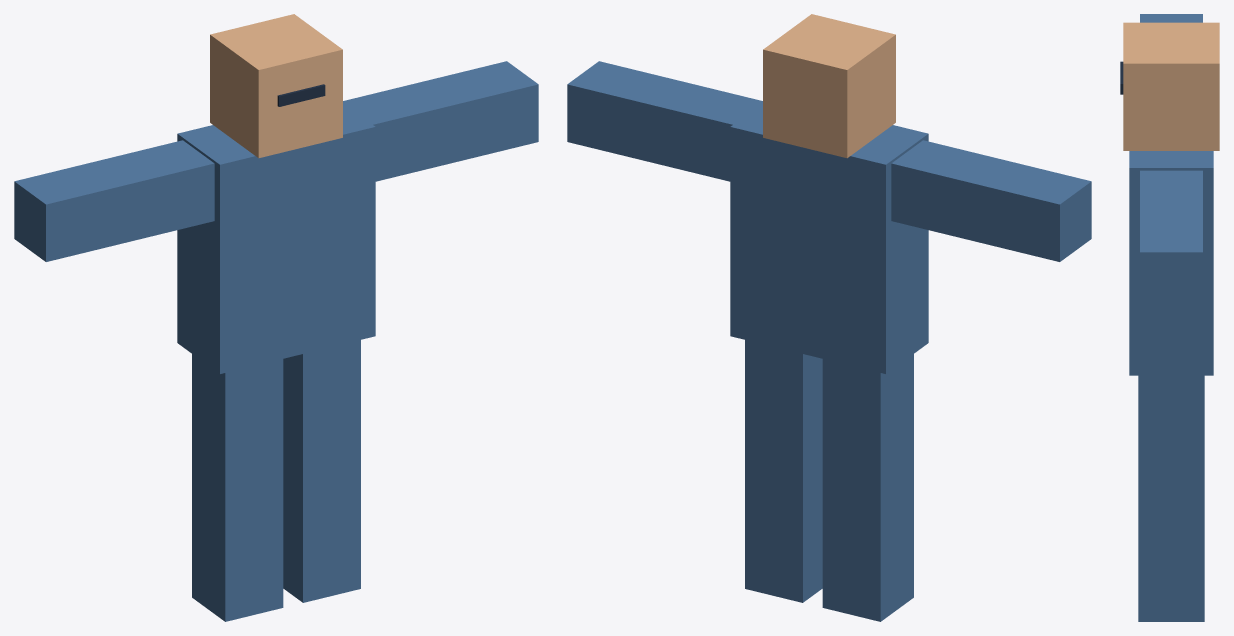
The model's file is humanoid_test.glb.
3 renders of one model, left to right at view 1: azimuth 30°, elevation 25°; view 2: azimuth 150°, elevation 25°; view 3: azimuth 270°, elevation 25°, orthographic.
Visible parts, largest first — view 1: Visual_Body, Visual_Leg_R, Visual_Leg_L, Visual_Arm_R, Visual_Head, Visual_Arm_L; view 2: Visual_Body, Visual_Leg_R, Visual_Leg_L, Visual_Arm_R, Visual_Head, Visual_Arm_L; view 3: Visual_Leg_L, Visual_Head, Visual_Body, Visual_Arm_L, Visual_Arm_R.
Part boxes in pixels (left/top/right/bottom): Visual_Body: left=177, top=103, right=375, bottom=373; Visual_Leg_R: left=192, top=354, right=283, bottom=621; Visual_Leg_L: left=283, top=340, right=360, bottom=602; Visual_Arm_R: left=14, top=140, right=214, bottom=261; Visual_Head: left=210, top=14, right=342, bottom=158; Visual_Arm_L: left=343, top=61, right=538, bottom=181; Visual_Body: left=730, top=103, right=928, bottom=373; Visual_Leg_R: left=822, top=354, right=913, bottom=621; Visual_Leg_L: left=745, top=340, right=822, bottom=602; Visual_Arm_R: left=891, top=140, right=1091, bottom=261; Visual_Head: left=763, top=14, right=895, bottom=158; Visual_Arm_L: left=567, top=61, right=762, bottom=181; Visual_Leg_L: left=1138, top=375, right=1204, bottom=621; Visual_Head: left=1123, top=22, right=1219, bottom=150; Visual_Body: left=1129, top=151, right=1213, bottom=375; Visual_Arm_L: left=1140, top=170, right=1202, bottom=309; Visual_Arm_R: left=1140, top=14, right=1202, bottom=22.
Bounding box in the file's own units: 2.06 × 2.2 × 0.3626.
